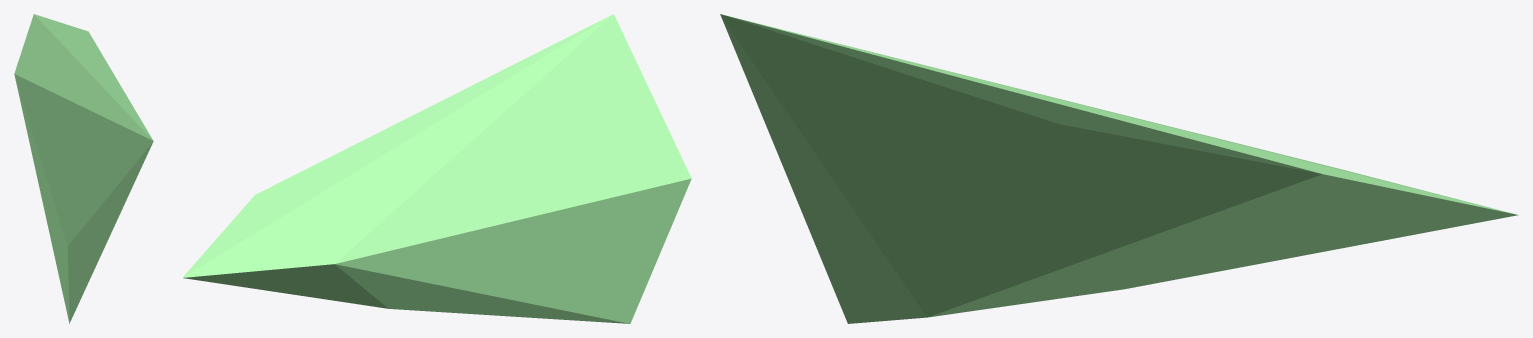
The model's file is dualpanda_Panda_leftArm_link5_respondable_coll_5.dae.
The picture shows the model from 3 angles, left to right: view 1: azimuth 30°, elevation 25°; view 2: azimuth 150°, elevation 25°; view 3: azimuth 270°, elevation 25°; orthographic projection. The views are drawn at different scales.
Visible parts, largest first — view 1: node; view 2: node; view 3: node.
Boxes of the visible parts, <box> form: node: <box>14,14,153,323</box>; node: <box>182,14,691,323</box>; node: <box>720,14,1518,323</box>.
Size of the model in its own units: 0.0342 by 0.0365 by 0.0751.
